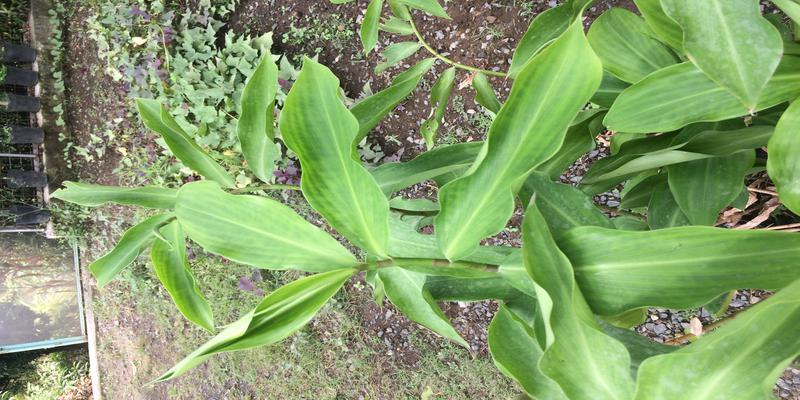Insulin: (151, 119, 793, 379)
